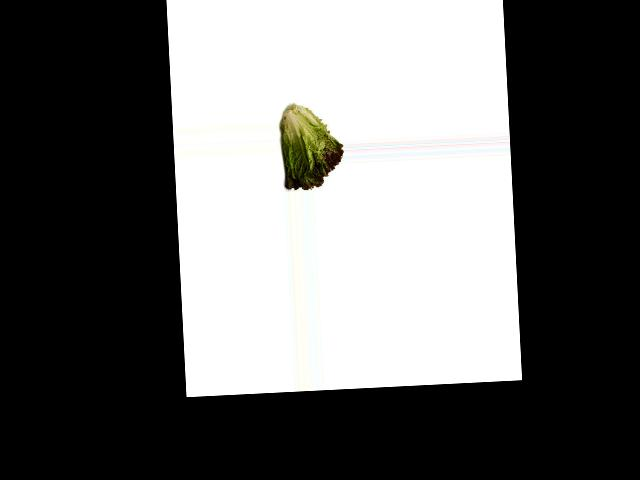lettuce: (280, 102, 344, 192)
